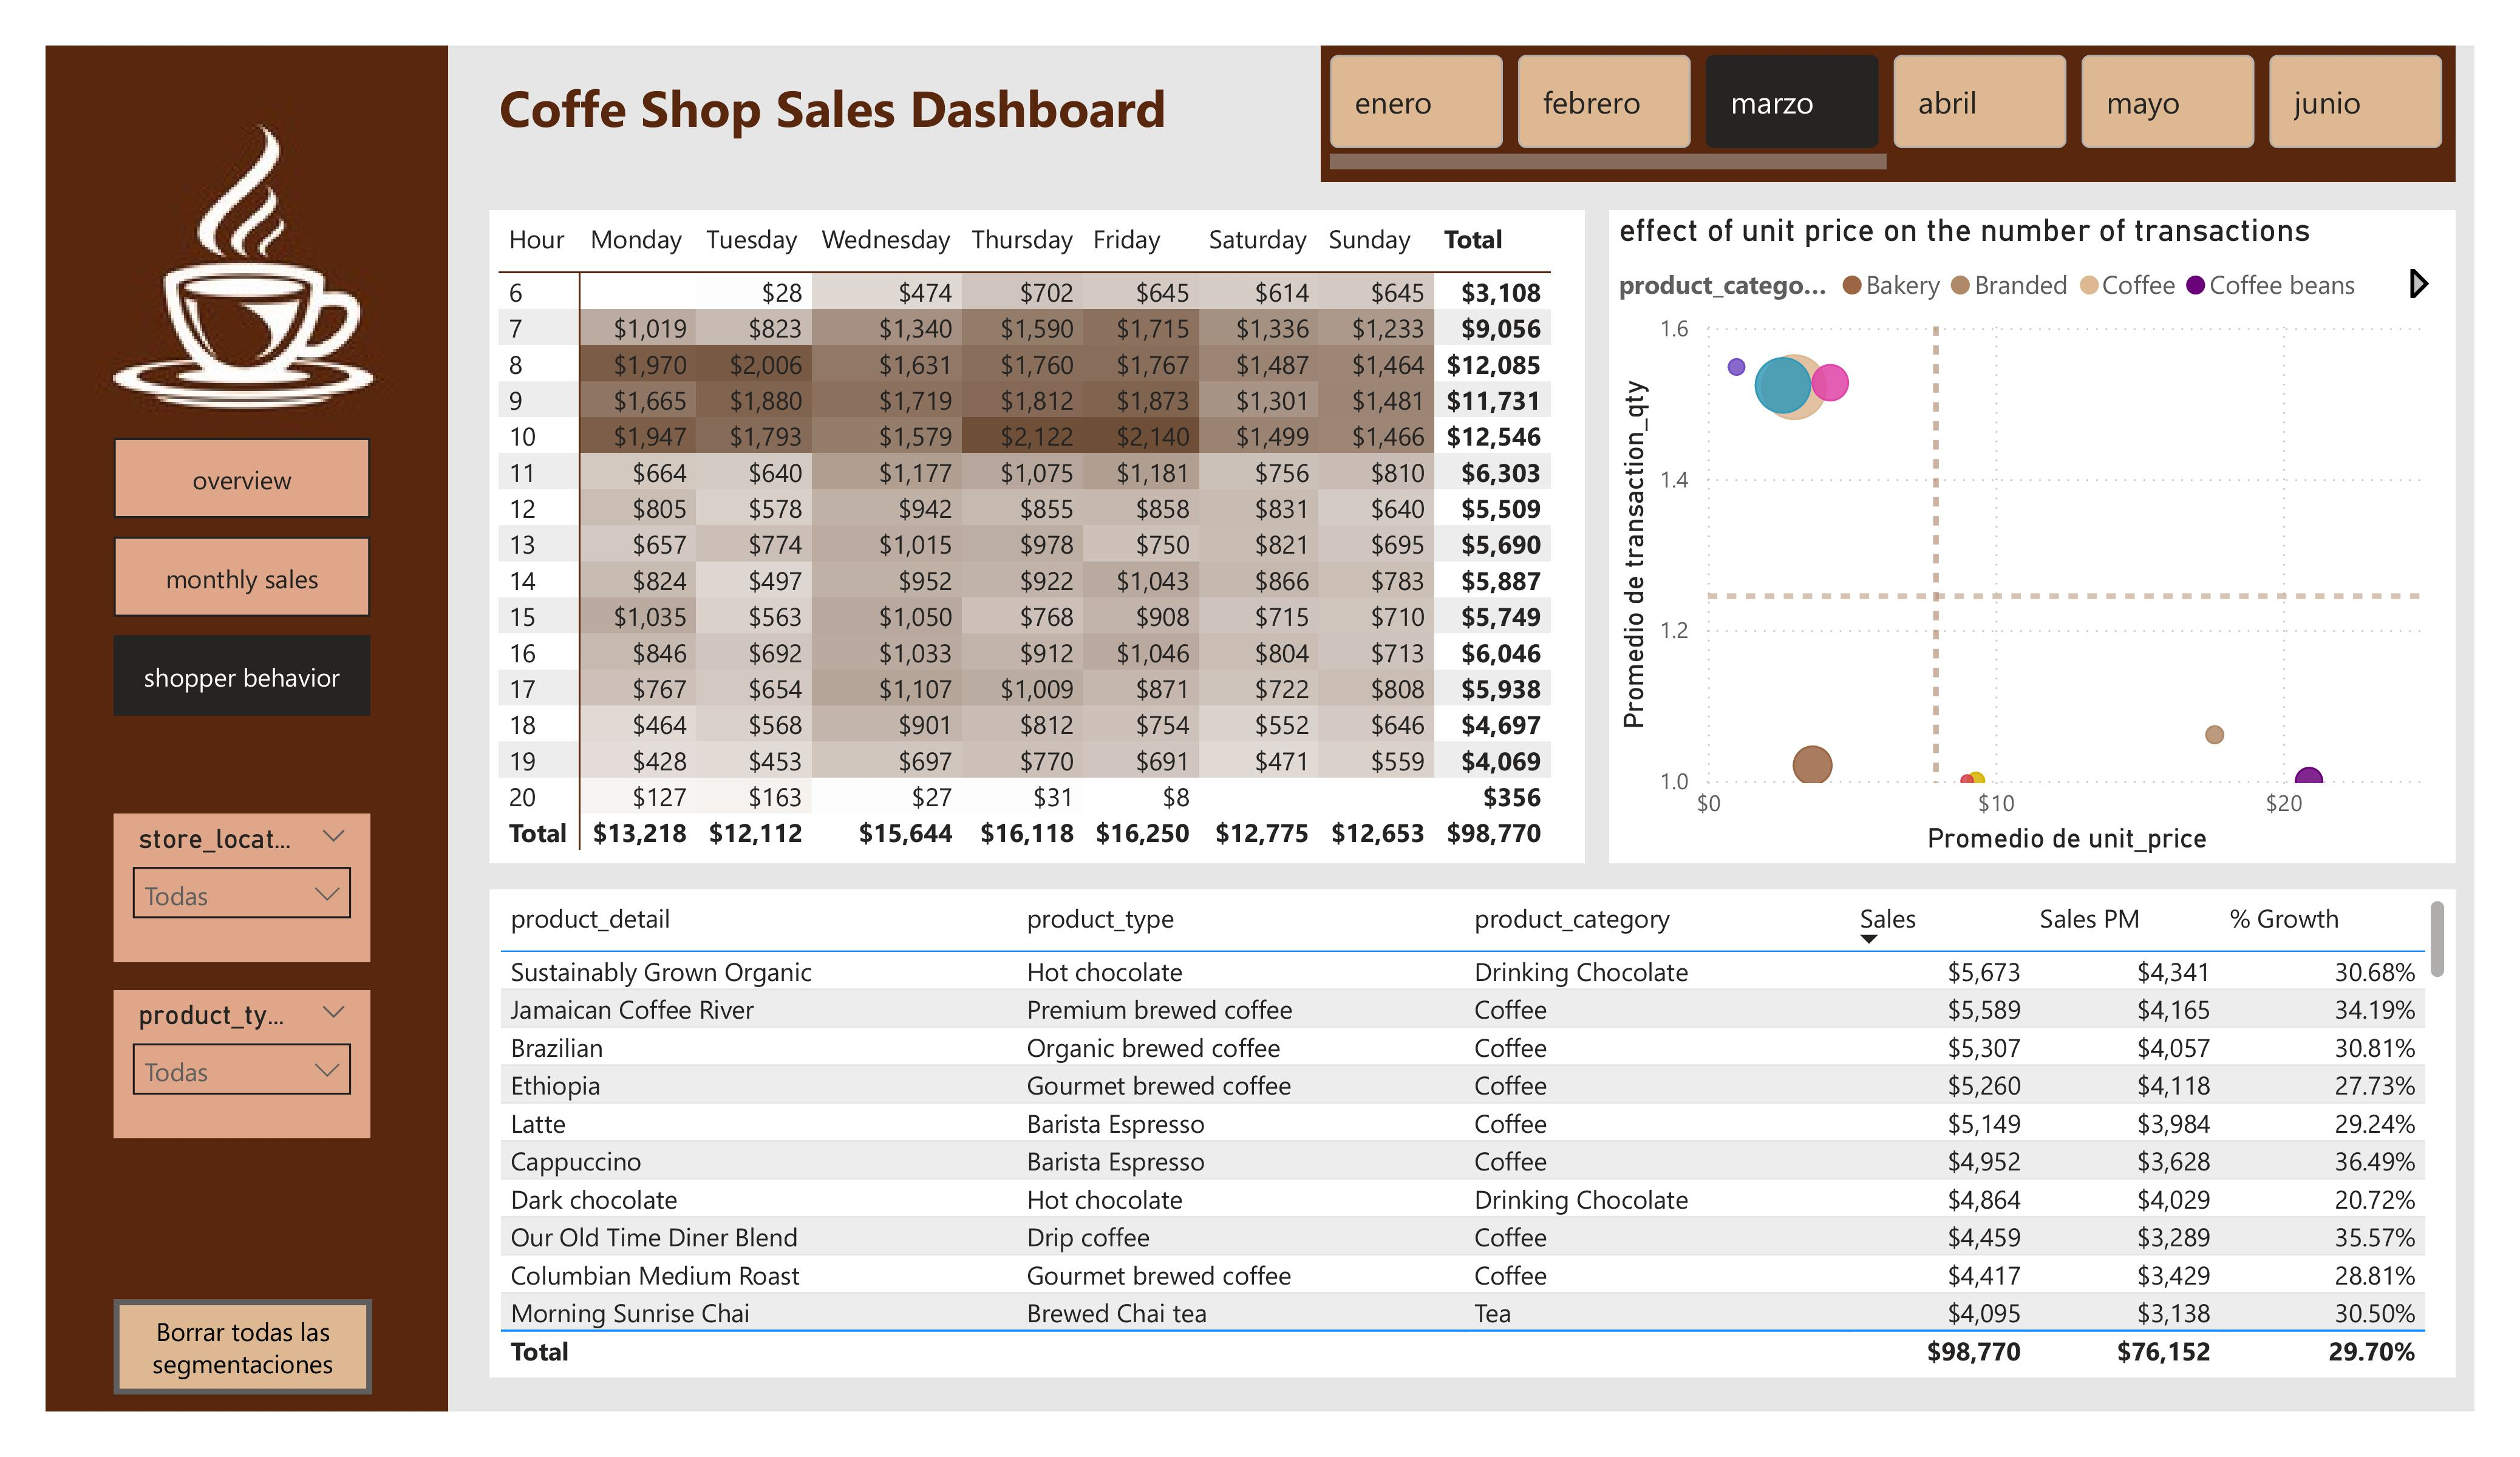

The dashboard page shown, as its layout file describes it:
{"tool":"powerbi","page":{"name":"shopper  behavior","canvas":[1280,720],"ordinal":2},"visuals":[{"type":"shape","box":[0,0,212,720.5],"z":0},{"type":"image","box":[24.1,28.9,162.7,178.3],"z":1000},{"type":"slicer","fields":{"Values":["coffee_shop_sales.store_location"]},"box":[36.1,404.8,134.9,78.3],"z":2000},{"type":"slicer","fields":{"Values":["coffee_shop_sales.product_type"]},"box":[36.1,497.6,134.9,78.3],"z":3000},{"type":"pageNavigator","box":[36.1,207.2,134.9,145.8],"z":4000},{"type":"actionButton","box":[36.4,660.6,135.4,50.5],"z":5000},{"type":"advancedSlicerVisual","fields":{"Values":["coffee_shop_sales.transaction_date.Variación.Jerarquía de fechas.Mes"]},"box":[672.3,0,597.6,72.3],"z":6000},{"type":"textbox","box":[233.6,8.8,407,48.5],"z":7000},{"type":"scatterChart","title":"effect of unit price on the number of transactions","fields":{"Category":["coffee_shop_sales.product_category"],"X":["Avg(coffee_shop_sales.unit_price)"],"Y":["Avg(coffee_shop_sales.transaction_qty)"],"Series":["coffee_shop_sales.product_category"],"Size":["Sum(coffee_shop_sales.Total_Bill)"]},"box":[824.1,86.7,445.8,344.6],"z":8000},{"type":"tableEx","fields":{"Values":["coffee_shop_sales.product_detail","coffee_shop_sales.product_type","coffee_shop_sales.product_category","Sum(coffee_shop_sales.Total_Bill)","Medidas.Sales PM prodetail","Medidas.% growth product"]},"box":[233.7,444.6,1036.1,257.8],"z":9000},{"type":"pivotTable","fields":{"Rows":["coffee_shop_sales.Hour"],"Columns":["coffee_shop_sales.Day Name"],"Values":["Sum(coffee_shop_sales.Total_Bill)"]},"box":[233.7,86.7,577.1,344.6],"z":11000}]}

Visuals, with their boxes on the page's 1280x720 design canvas (x1, y1, x2, y2). These are canvas units, not pixel positions in the 2520x1457 screenshot, which may show the page scaled, cropped or inside an application window:
shape: <box>0,0,212,720</box>
image: <box>24,29,187,207</box>
slicer - coffee_shop_sales.store_location: <box>36,405,171,483</box>
slicer - coffee_shop_sales.product_type: <box>36,498,171,576</box>
pageNavigator: <box>36,207,171,353</box>
actionButton: <box>36,661,172,711</box>
advancedSlicerVisual - coffee_shop_sales.transaction_date.Variación.Jerarquía de fechas.Mes: <box>672,0,1270,72</box>
textbox: <box>234,9,641,57</box>
"effect of unit price on the number of transactions" scatterChart: <box>824,87,1270,431</box>
tableEx - coffee_shop_sales.product_detail x coffee_shop_sales.product_type: <box>234,445,1270,702</box>
pivotTable - coffee_shop_sales.Hour x coffee_shop_sales.Day Name: <box>234,87,811,431</box>
